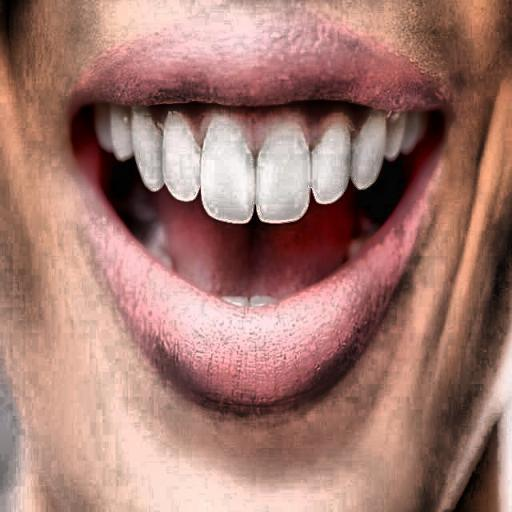Healthy: (48, 48, 445, 342)
